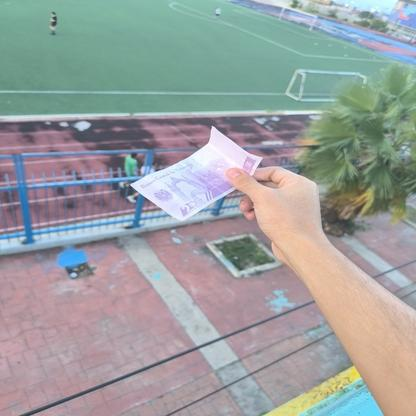one_hundred-back-vef: (128, 125, 264, 221)
